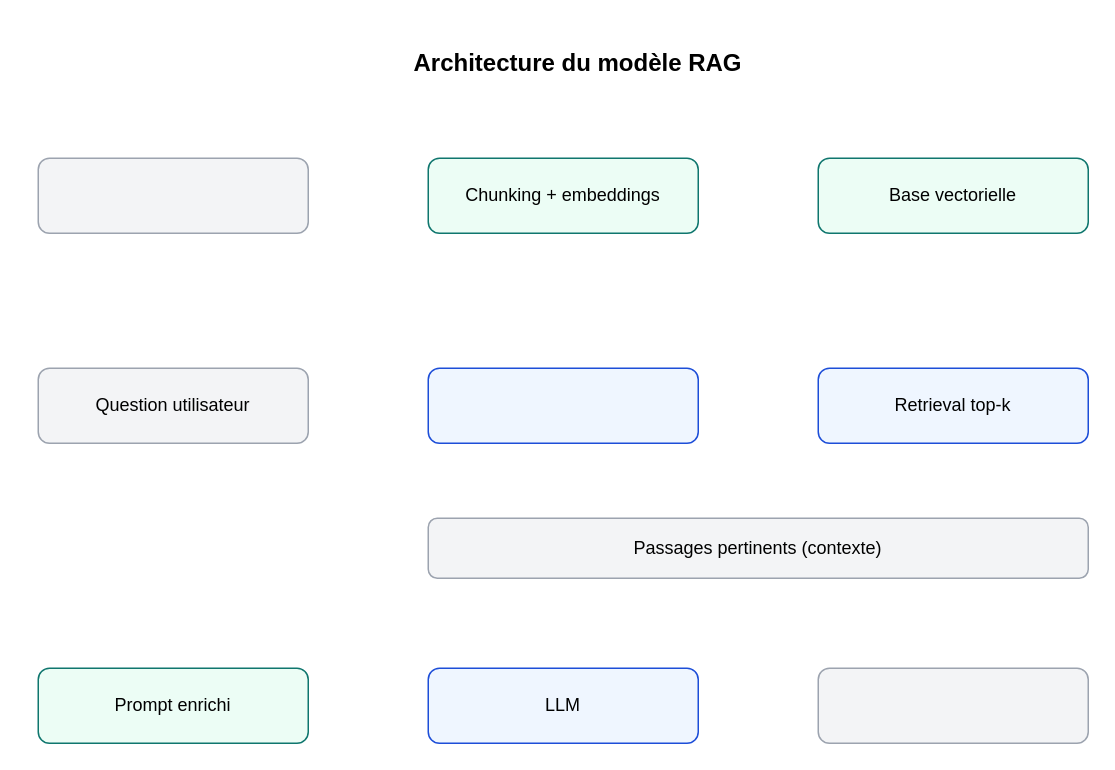
The diagram is 1115 pixels wide and 770 high, and some of its shapes have lost their labels. The centre of each missing label's shape, as x and y in pixels:
"Documents sources" belongs at point 172,195.
"Embedding de la requête" belongs at point 562,405.
"Réponse ancrée" belongs at point 952,705.
